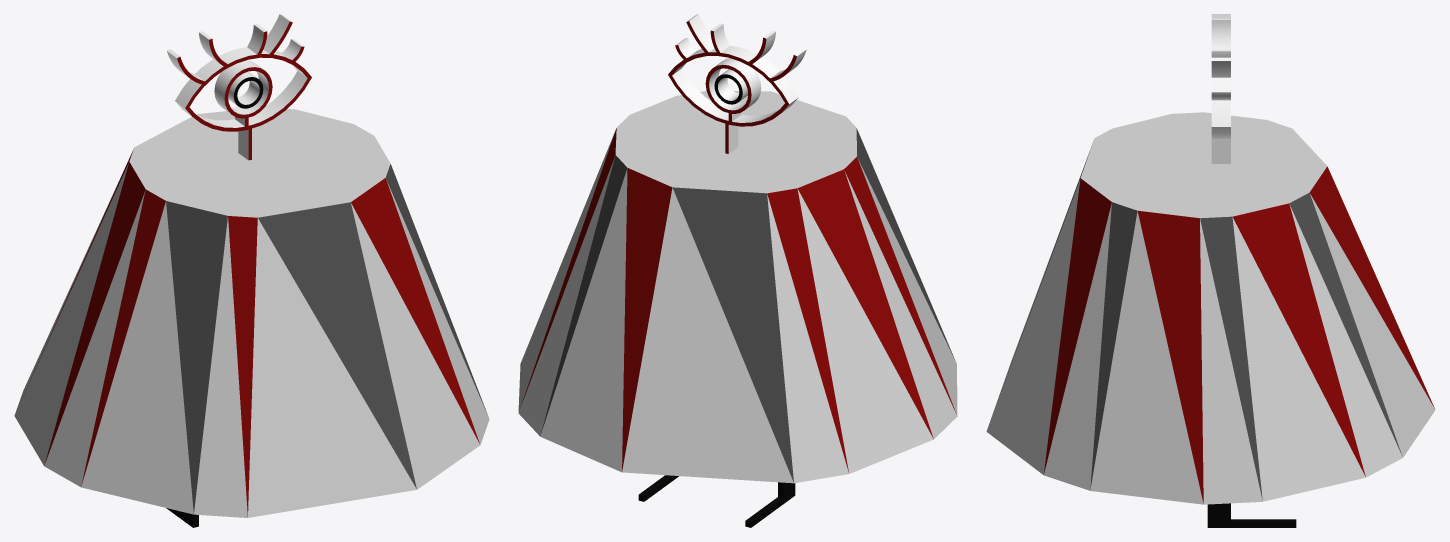
3 views of the same model, side by side, from view 1: azimuth 30°, elevation 25°; view 2: azimuth 150°, elevation 25°; view 3: azimuth 270°, elevation 25° (orthographic). The views are drawn at different scales.
Visible parts, largest first — view 1: Group3, Group4; view 2: Group3, Group4, Group2; view 3: Group3, Group4, Group1.
Boxes of the visible parts, box(x1,y1,x2,y2) form: Group3: box(14, 109, 489, 517); Group4: box(167, 14, 311, 160); Group3: box(518, 91, 957, 483); Group4: box(668, 14, 806, 153); Group2: box(745, 482, 795, 527); Group3: box(986, 112, 1435, 504); Group4: box(1211, 14, 1230, 163); Group1: box(1207, 503, 1296, 527).
Bounding box in the file's own units: 3.5 × 3.92 × 3.45.
